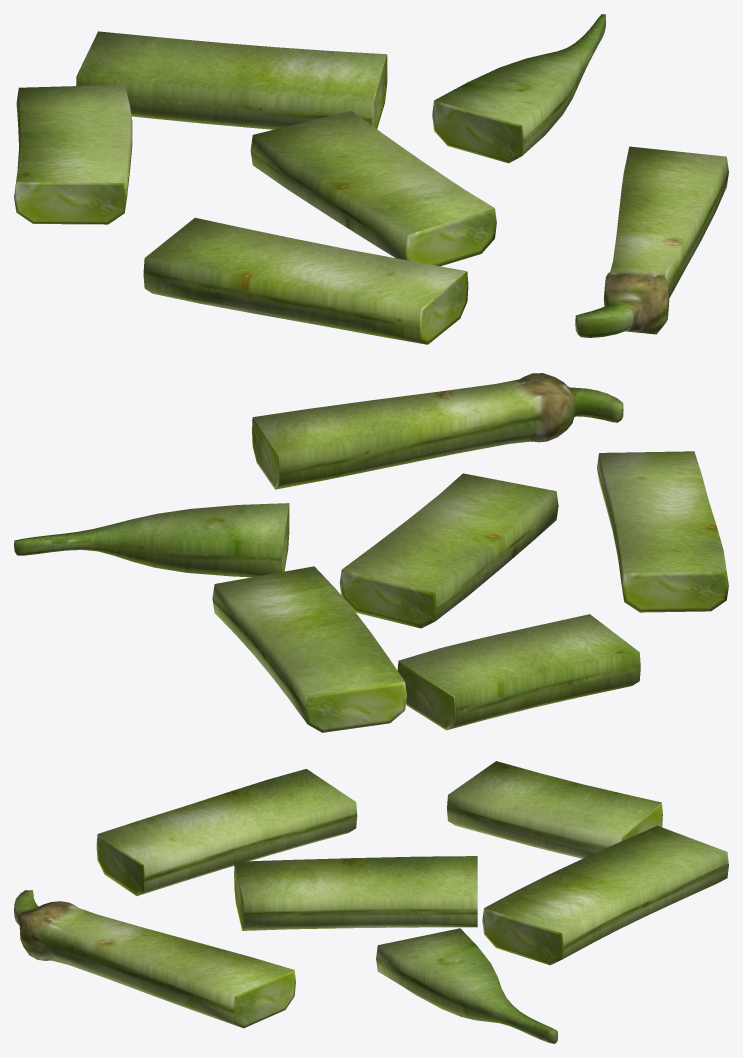
The model's file is Potongan Buncis.fbx.
3 views of the same model, one above another, from view 1: azimuth 30°, elevation 25°; view 2: azimuth 150°, elevation 25°; view 3: azimuth 270°, elevation 25° (orthographic). The views are drawn at different scales.
Visible parts, largest first — view 1: Potongan Buncis; view 2: Potongan Buncis; view 3: Potongan Buncis.
Part boxes in pixels (x1=…): Potongan Buncis: x1=14, y1=14, x2=728, y2=344; Potongan Buncis: x1=14, y1=373, x2=728, y2=732; Potongan Buncis: x1=14, y1=761, x2=728, y2=1043.
Size of the model in its own units: 4.93 by 0.3746 by 5.65.
1 material, 1 textured.
